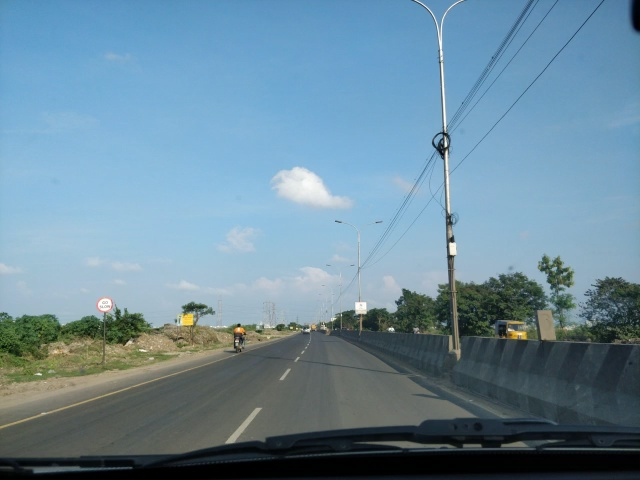auto: (486, 309, 544, 356)
car: (302, 319, 315, 341)
motorbike: (209, 308, 255, 361), (404, 319, 431, 342), (379, 319, 402, 336)
